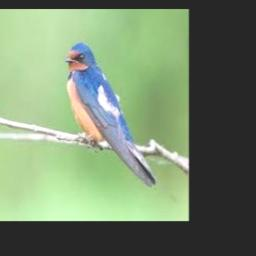Swallow: (65, 44, 156, 186)
